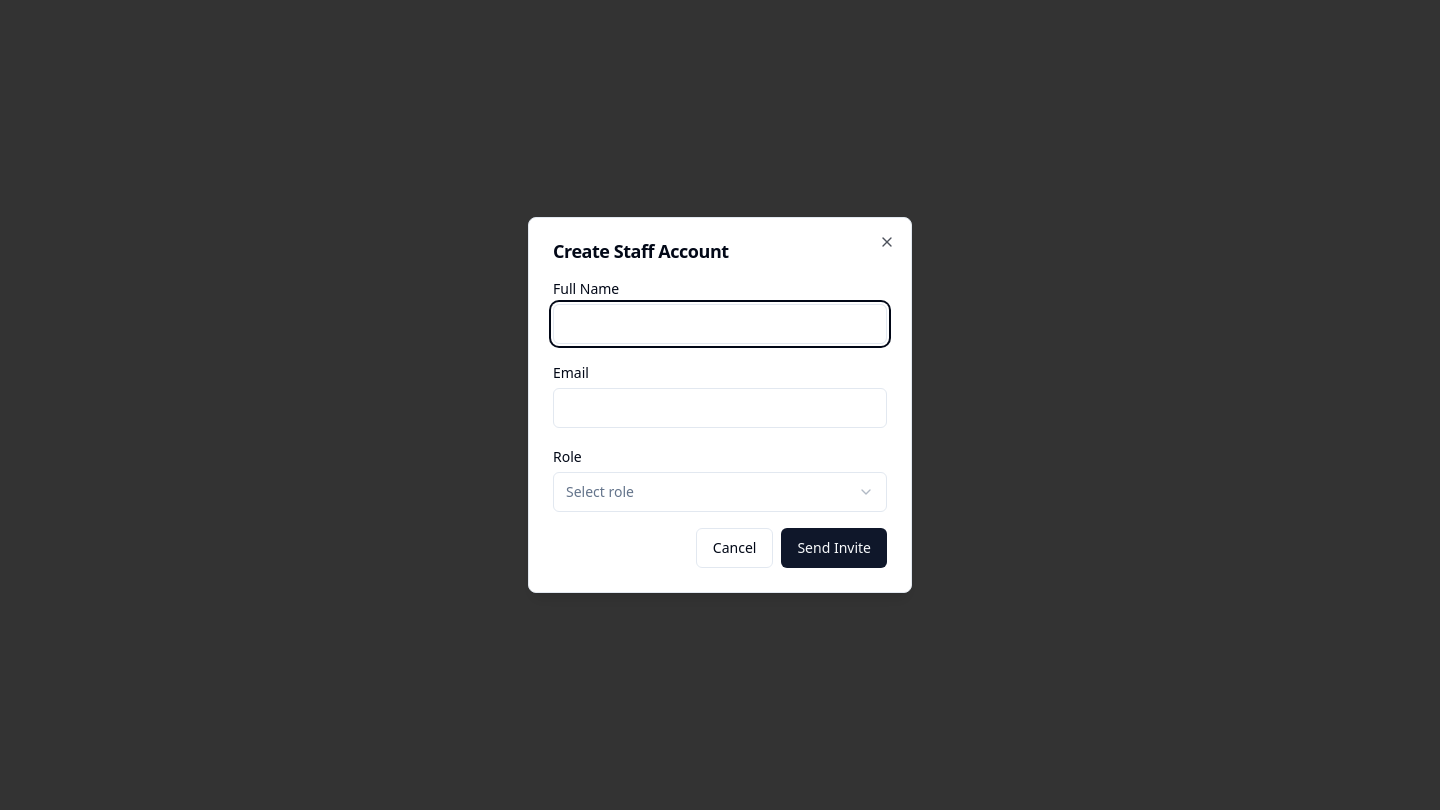
it: CreateStaffDialog › shows validation errors for empty submit
Click the button "Send Invite": (834, 548) [781,528,887,568]
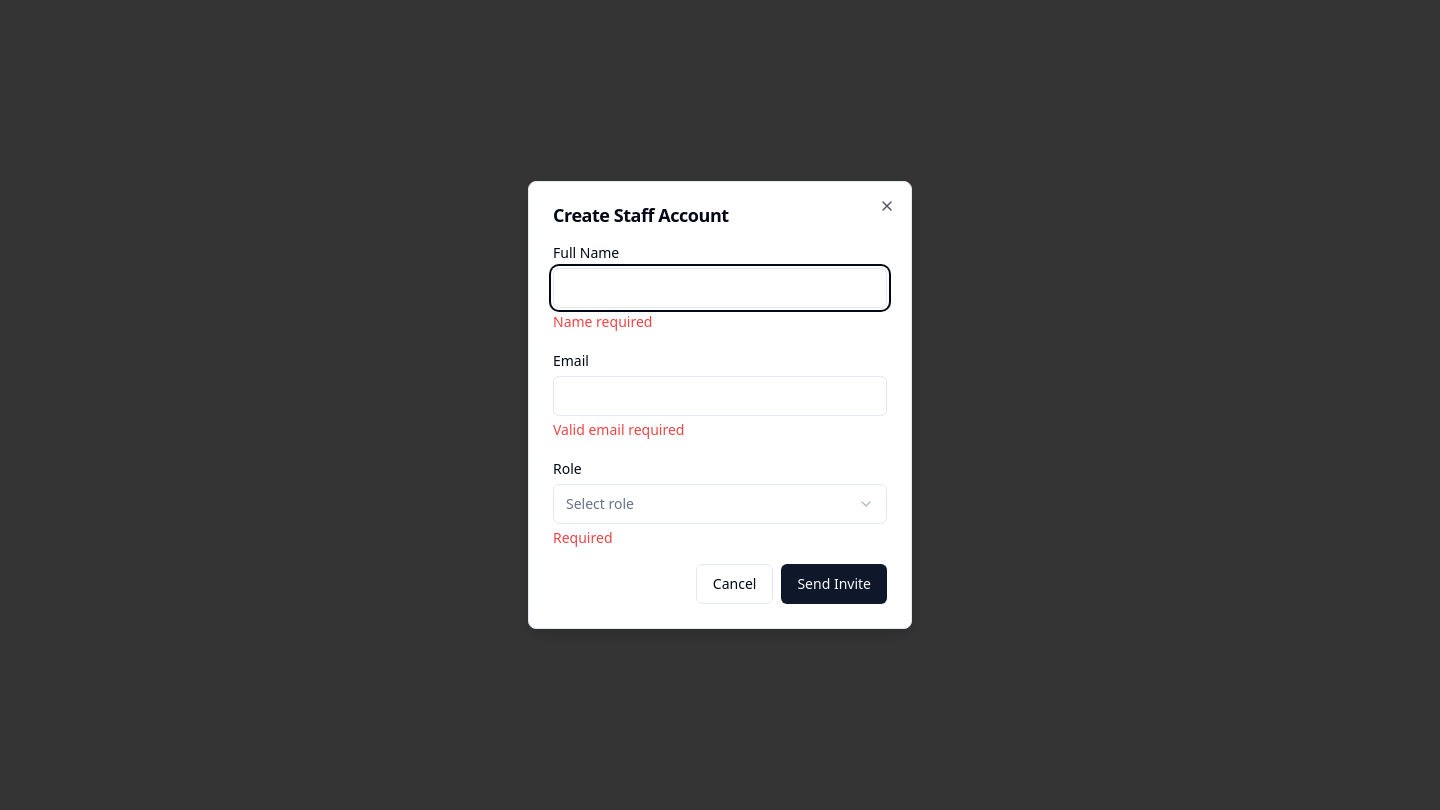
Now the text "Name required" is shown, box [553,312,652,331]
